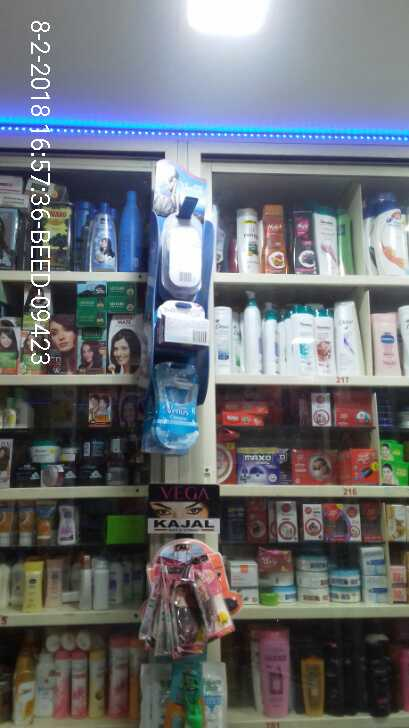beauty: (147, 356, 204, 452), (367, 195, 409, 270)
